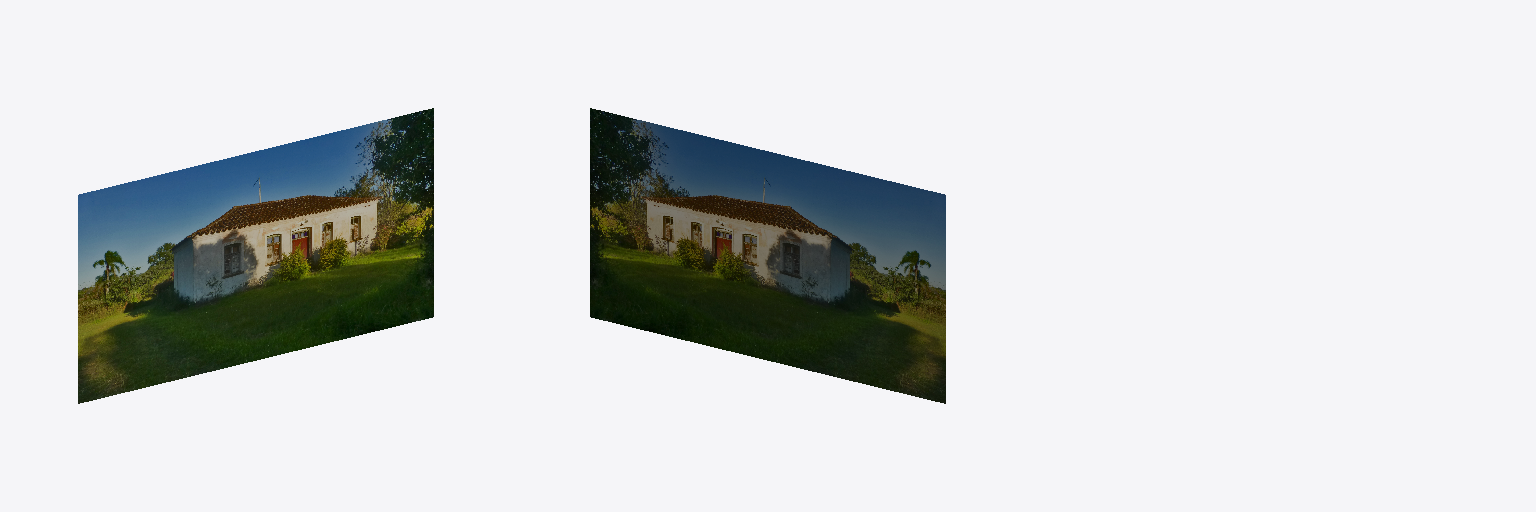
The picture shows the model from 3 angles: view 1: azimuth 30°, elevation 25°; view 2: azimuth 150°, elevation 25°; view 3: azimuth 270°, elevation 25°; orthographic projection.
Visible parts, largest first — view 1: Arquitetura_07(saoPedro); view 2: Arquitetura_07(saoPedro); view 3: none.
Part boxes in pixels (left/top/right/bottom): Arquitetura_07(saoPedro): left=78, top=108, right=433, bottom=403; Arquitetura_07(saoPedro): left=590, top=108, right=945, bottom=403.
Bounding box in the file's own units: 1.78 × 1 × 0.
Materials: 1 (1 with a texture image).